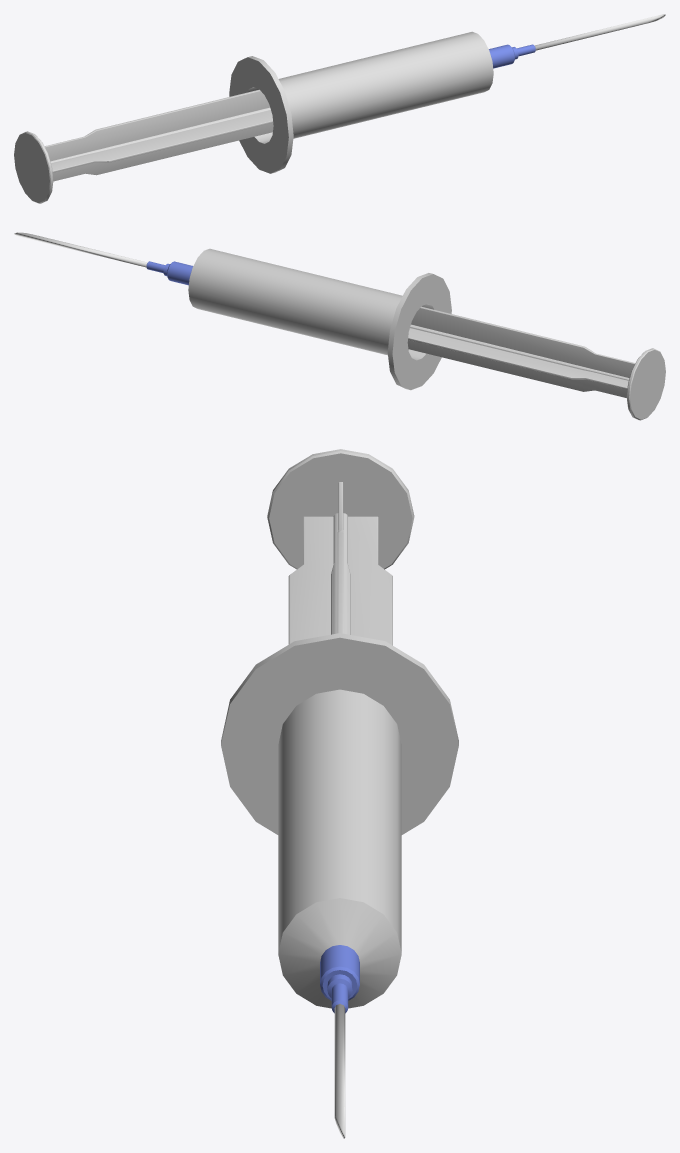
Rendered from Syringe.fbx.
3 renders of one model, top to bottom at view 1: azimuth 30°, elevation 25°; view 2: azimuth 150°, elevation 25°; view 3: azimuth 270°, elevation 25°, orthographic. The views are drawn at different scales.
Visible parts, largest first — view 1: Syringe, Handle; view 2: Syringe, Handle; view 3: Syringe, Handle.
Part boxes in pixels (x1=…): Syringe: x1=229, y1=14, x2=665, y2=173; Handle: x1=14, y1=89, x2=273, y2=203; Syringe: x1=14, y1=232, x2=451, y2=390; Handle: x1=407, y1=306, x2=665, y2=420; Syringe: x1=221, y1=633, x2=458, y2=1138; Handle: x1=267, y1=449, x2=414, y2=645.
Size of the model in its own units: 27.14 by 4.42 by 4.42.
